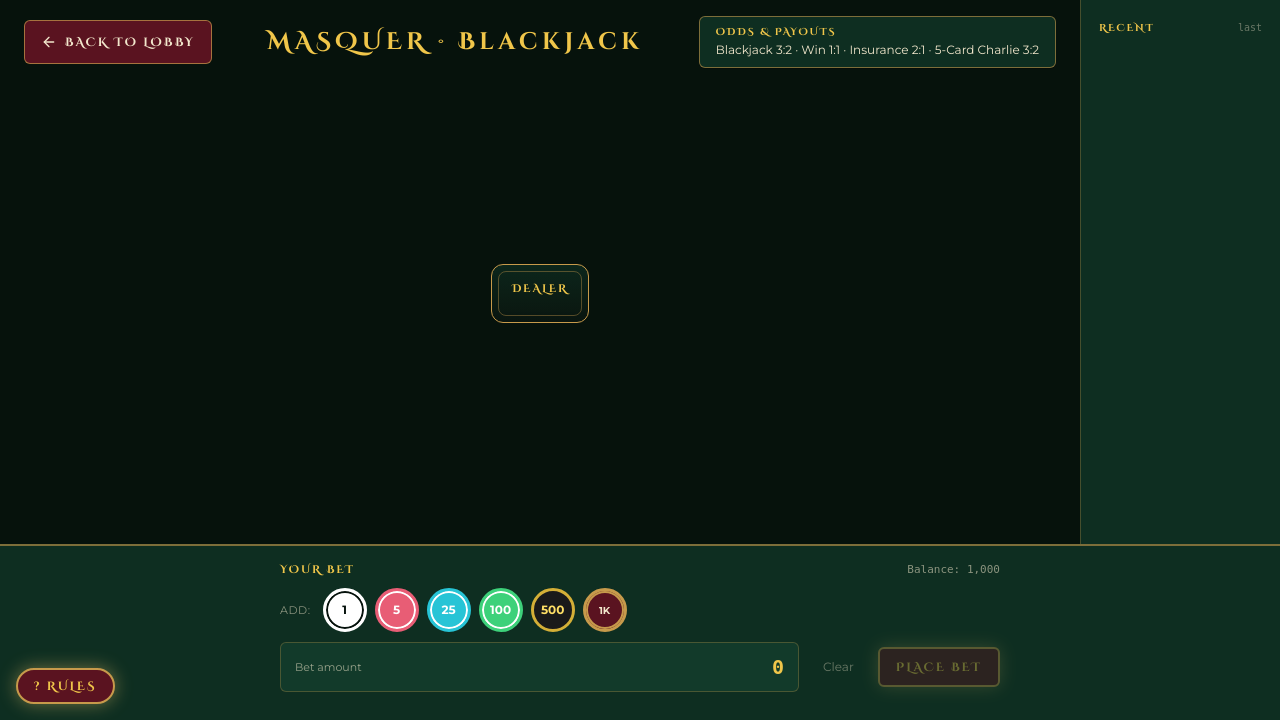
Test: BlackjackPage › places a bet and deals four cards (dealer + player areas appear)
The width and height of the screenshot is (1280, 720).
Click the button named "Add 25 chips to bet": (449, 610) x1=427 y1=588 x2=471 y2=632
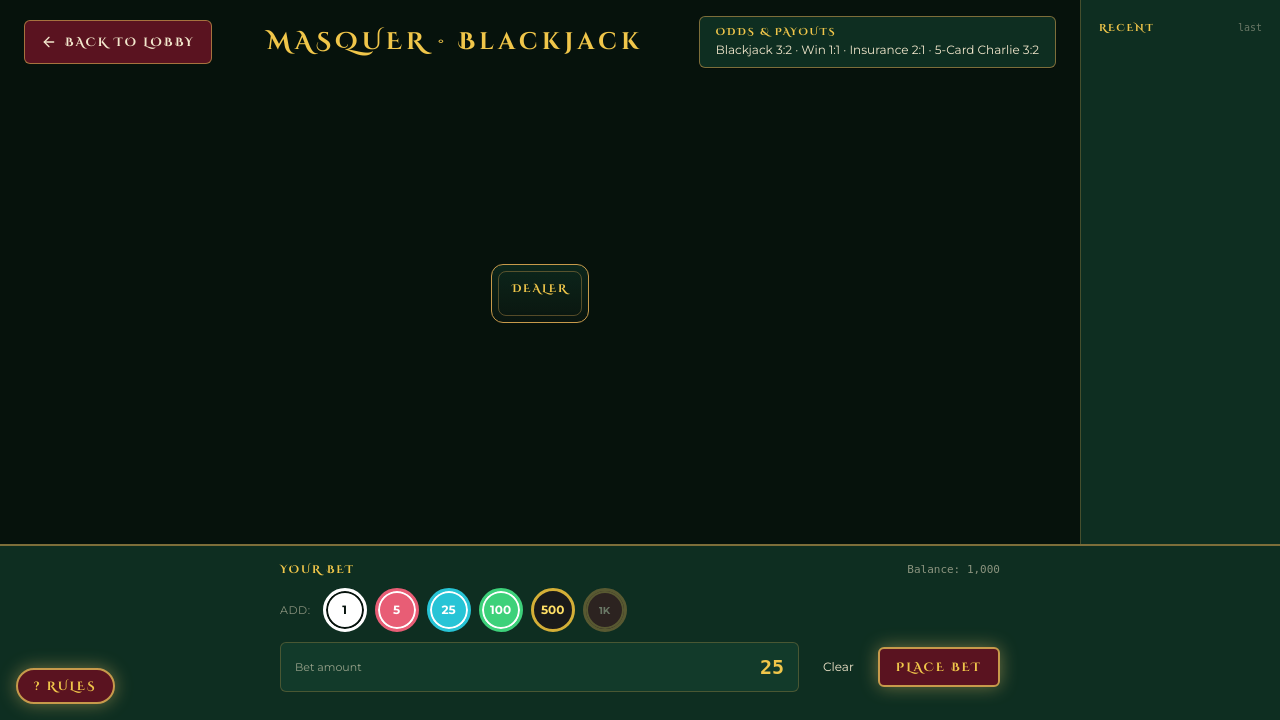
Click the button "PLACE BET": (939, 667) x1=878 y1=647 x2=1000 y2=687
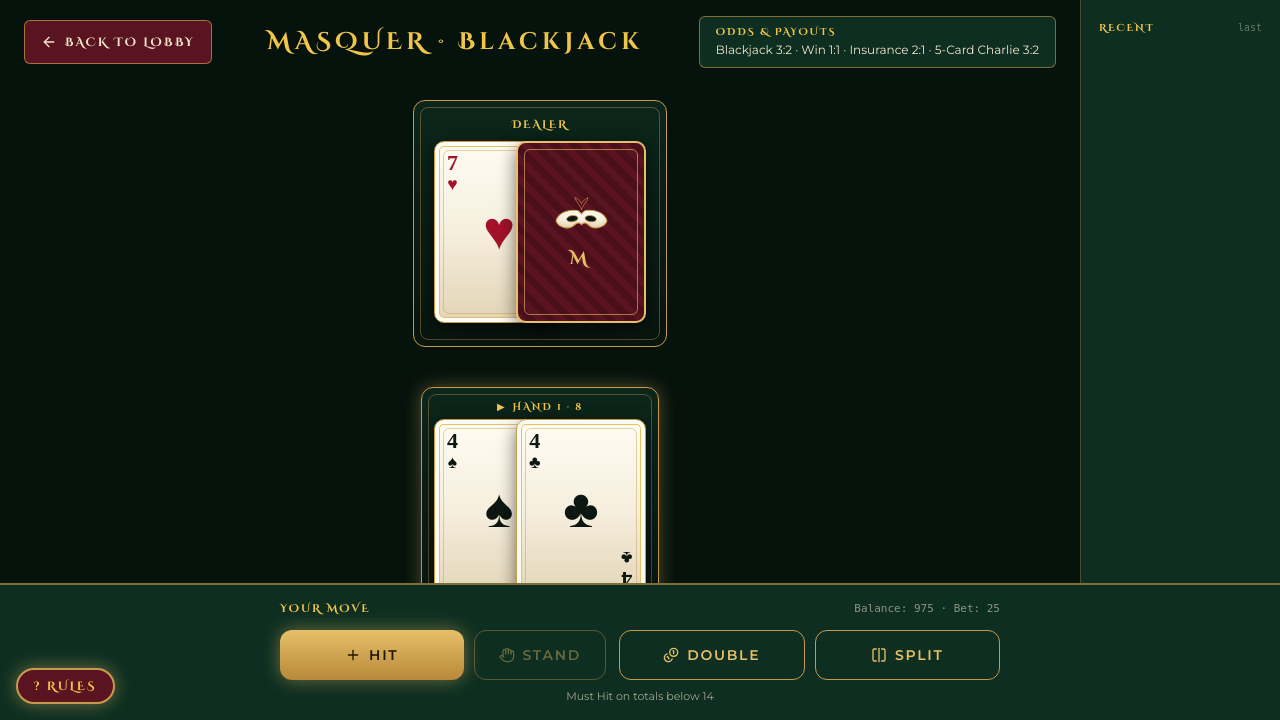
Expected: the text "DEALER" is shown, x1=512 y1=116 x2=568 y2=133
Expected: the text "HAND 1 · 8" is shown, x1=512 y1=400 x2=583 y2=415
